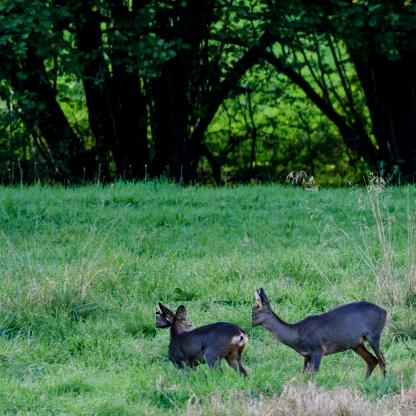Deer: (239, 287, 389, 385), (156, 301, 252, 390)
